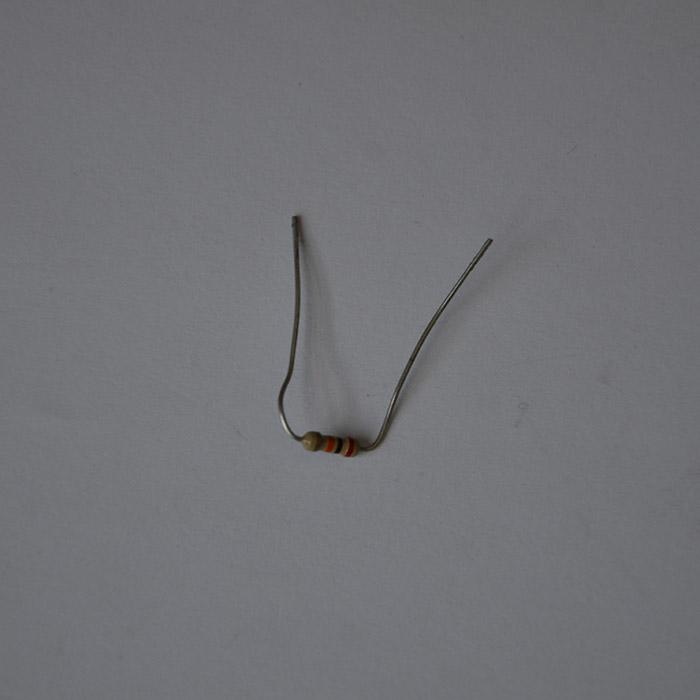resistor: (300, 430, 357, 457)
